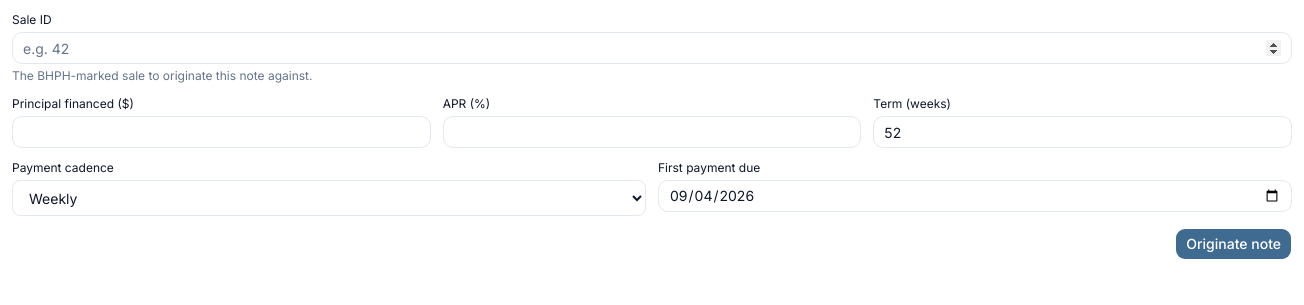
RecordBhphNoteForm › blocks submit when sale_id is missing
The width and height of the screenshot is (1304, 305).
Step 1. Type "5000" into the number field with test id "record-bhph-note-principal" → (221, 132), box top-left (12, 116), bottom-right (431, 148)
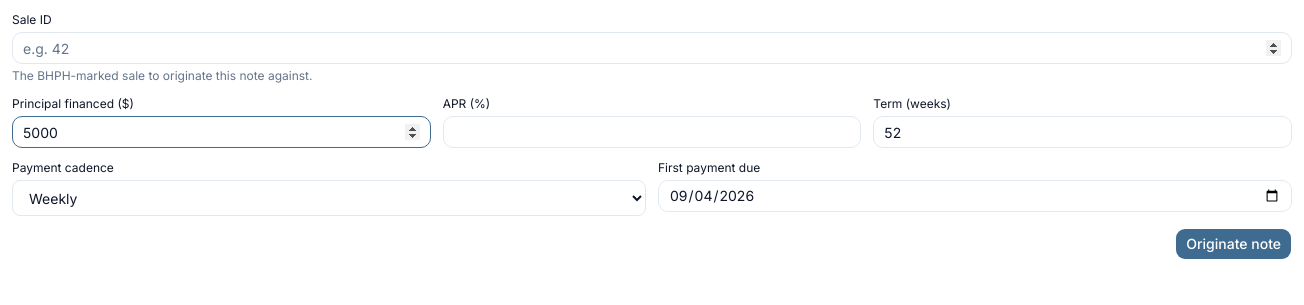
Step 2. Type "18.5" into the number field with test id "record-bhph-note-apr" → (652, 132), box top-left (443, 116), bottom-right (861, 148)
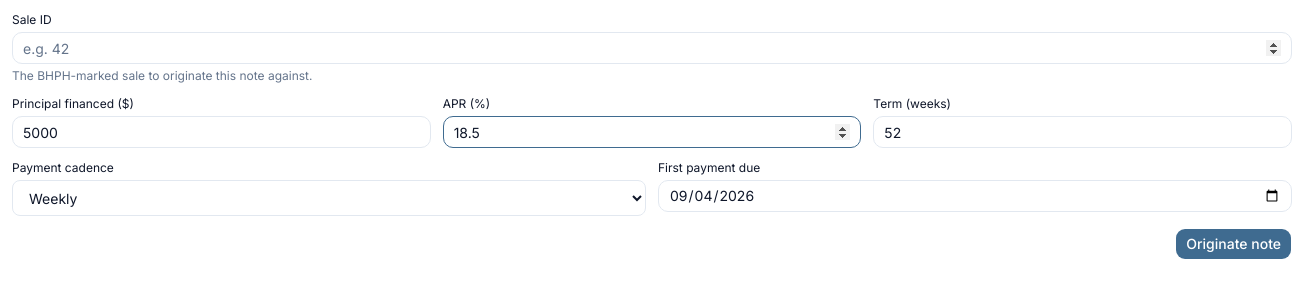
Step 3. Click the button with test id "record-bhph-note-submit" → (1234, 244), box top-left (1175, 228), bottom-right (1292, 260)
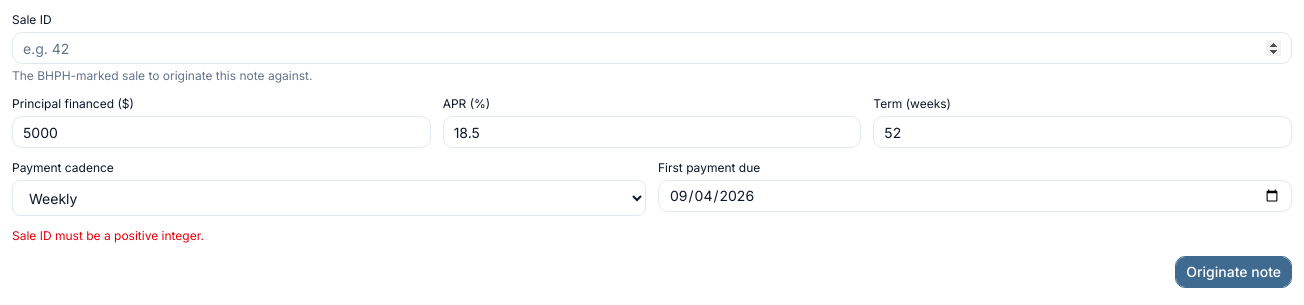
Expected: the message "Sale ID must be a positive integer." is shown, top-left (12, 228), bottom-right (204, 243)
